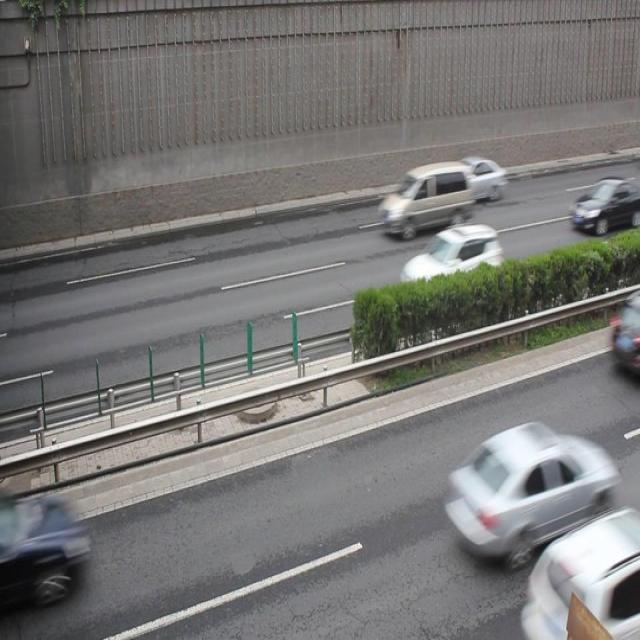car: (444, 420, 608, 568), (522, 512, 640, 640), (398, 224, 501, 306), (568, 176, 640, 233), (452, 154, 506, 203)
truck: (377, 160, 472, 238)
